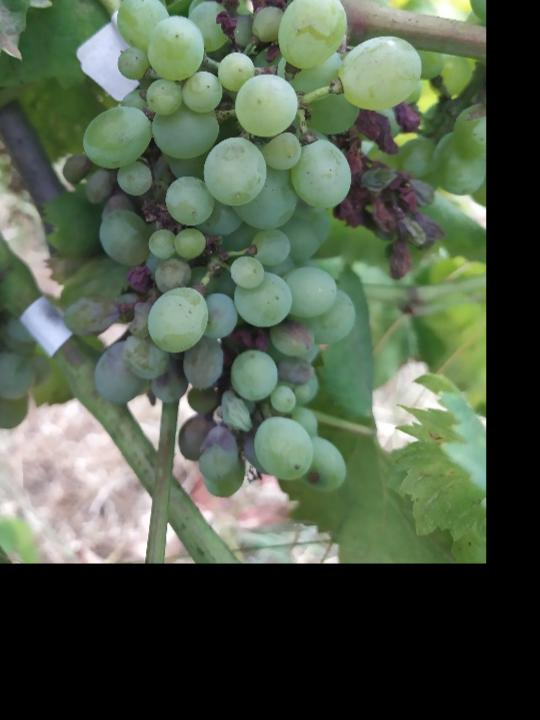grape: (60, 0, 452, 502)
